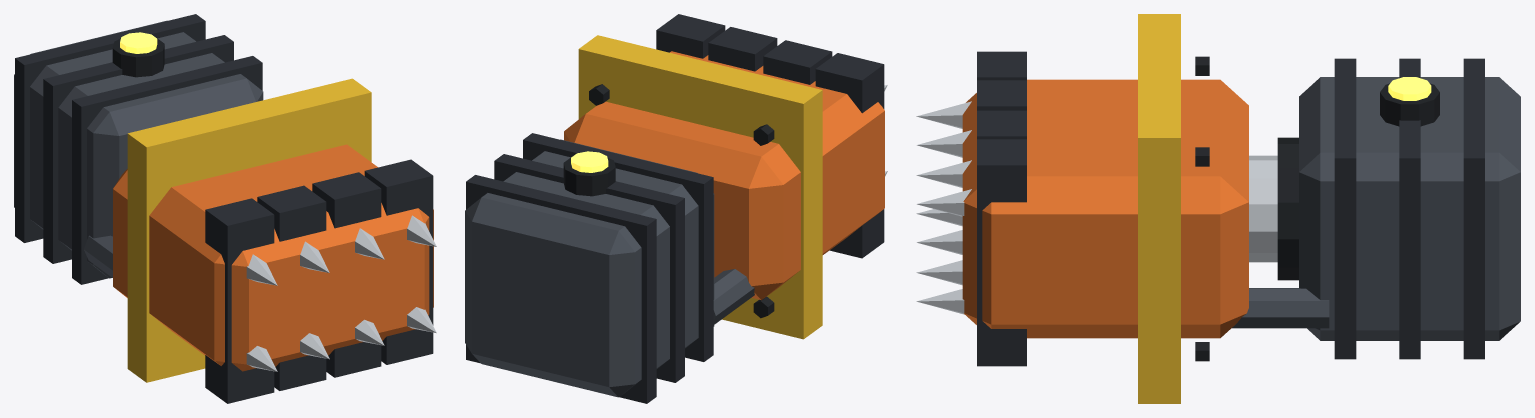
The model's file is weapon_ram_fist_mk1.glb.
3 views of the same model, side by side, from view 1: azimuth 30°, elevation 25°; view 2: azimuth 150°, elevation 25°; view 3: azimuth 270°, elevation 25° (orthographic). The views are drawn at different scales.
Visible parts, largest first — view 1: ram_fist, ram_stripe, ram_knuckles, ram_housing_ribs, ram_housing, ram_spikes, ram_warning_housing, ram_side_piston_-1_sleeve, ram_warning; view 2: ram_housing, ram_fist, ram_stripe, ram_housing_ribs, ram_knuckles, ram_side_piston_-1_sleeve, ram_warning_housing, ram_bolts, ram_warning; view 3: ram_fist, ram_housing, ram_housing_ribs, ram_stripe, ram_knuckles, ram_spikes, ram_side_piston_+1_sleeve, ram_piston_collar, ram_piston, ram_warning_housing, ram_bolts, ram_warning.
Boxes of the visible parts, <box> form: ram_fist: <box>113,144,433,371</box>; ram_stripe: <box>127,78,371,382</box>; ram_knuckles: <box>205,159,433,403</box>; ram_housing_ribs: <box>15,14,262,284</box>; ram_housing: <box>14,20,263,278</box>; ram_spikes: <box>246,215,436,371</box>; ram_warning_housing: <box>112,37,164,77</box>; ram_side_piston_-1_sleeve: <box>84,235,112,277</box>; ram_warning: <box>120,32,157,53</box>; ram_housing: <box>465,139,714,397</box>; ram_fist: <box>564,51,884,300</box>; ram_stripe: <box>578,35,822,339</box>; ram_housing_ribs: <box>466,133,713,403</box>; ram_knuckles: <box>656,14,884,258</box>; ram_side_piston_-1_sleeve: <box>713,269,754,324</box>; ram_warning_housing: <box>563,157,615,196</box>; ram_bolts: <box>589,84,774,318</box>; ram_warning: <box>571,151,608,172</box>; ram_fist: <box>962,79,1248,338</box>; ram_housing: <box>1299,77,1520,340</box>; ram_housing_ribs: <box>1334,58,1484,359</box>; ram_stripe: <box>1138,14,1180,403</box>; ram_knuckles: <box>977,51,1026,366</box>; ram_spikes: <box>916,101,971,314</box>; ram_side_piston_+1_sleeve: <box>1232,288,1329,328</box>; ram_piston_collar: <box>1277,137,1298,280</box>; ram_piston: <box>1249,155,1277,262</box>; ram_warning_housing: <box>1380,83,1439,126</box>; ram_bolts: <box>1195,56,1209,361</box>; ram_warning: <box>1388,77,1431,100</box>.
Size of what is drawn, in the model's own units: 0.82 by 0.82 by 1.69.
